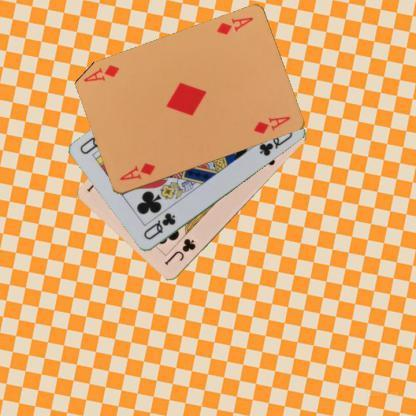Ad: (116, 160, 156, 182), (214, 14, 254, 36)
Jc: (162, 235, 198, 266)
Qc: (141, 210, 177, 242)
